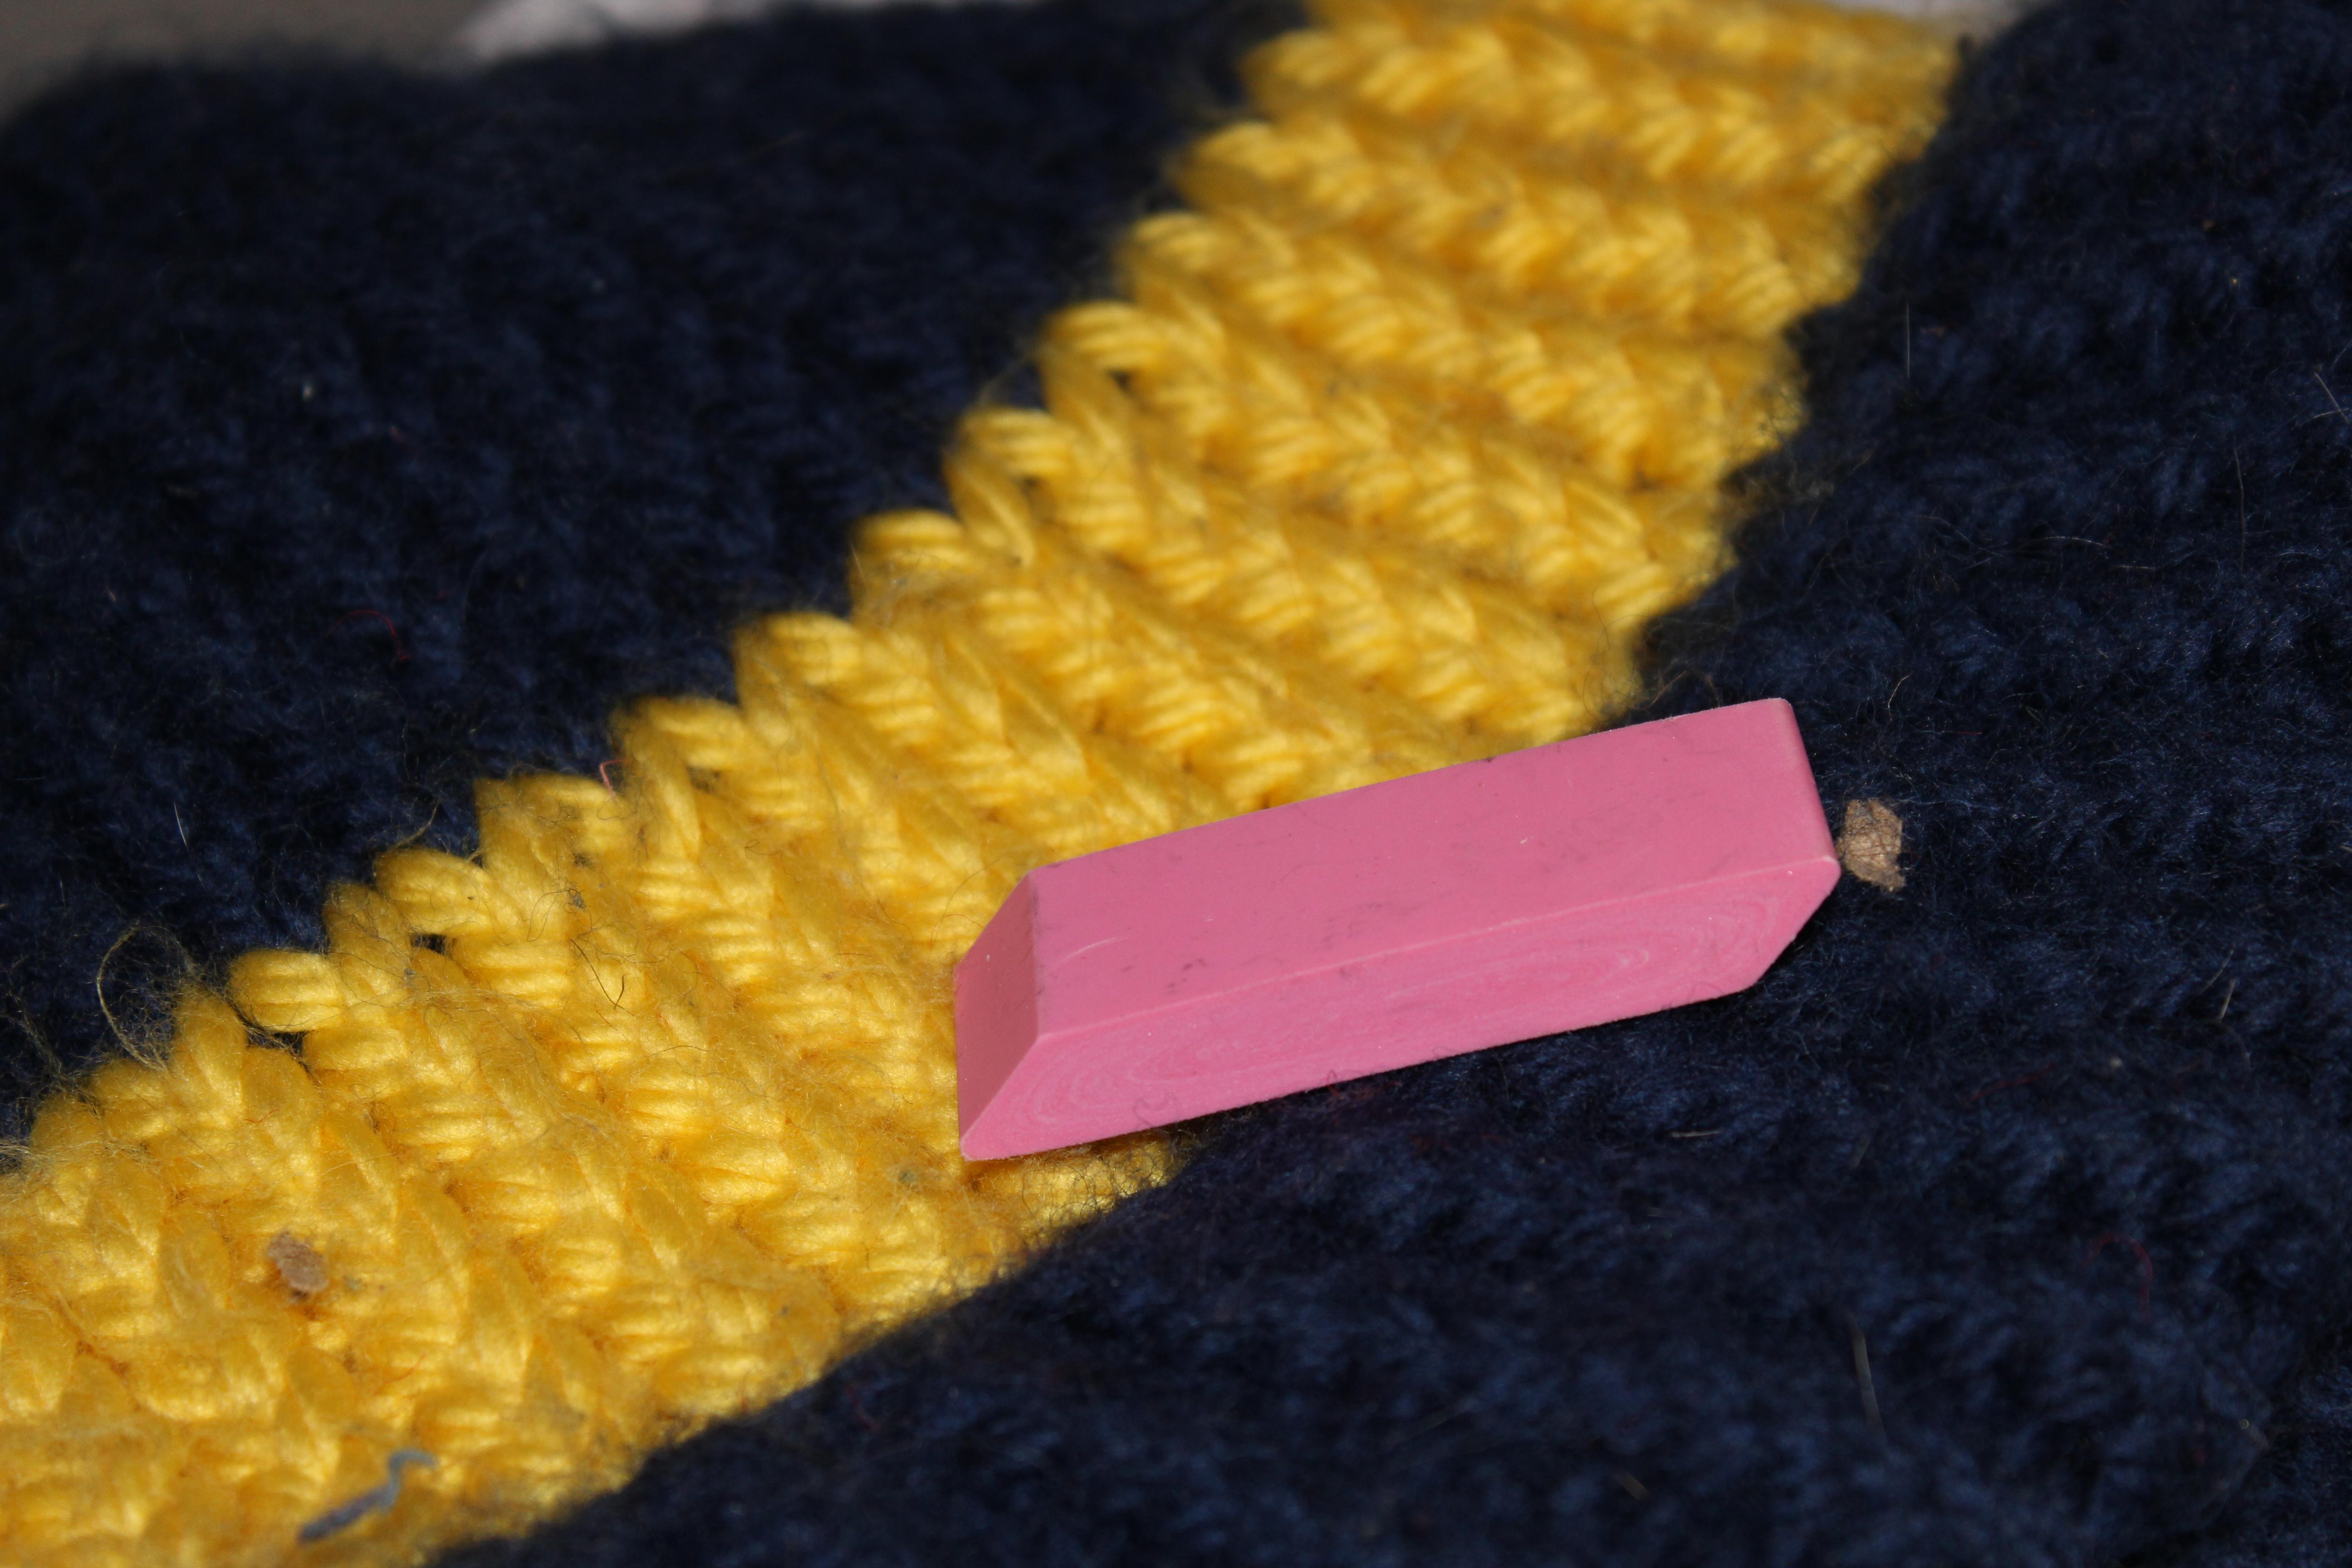pinkEraser: (914, 674, 1860, 1187)
